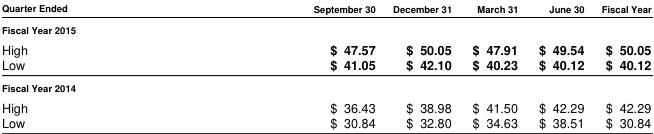table: (1, 0, 650, 130)
table column: (189, 0, 383, 130), (1, 0, 189, 130), (383, 0, 461, 130), (461, 0, 527, 130), (527, 0, 592, 130), (592, 0, 650, 130)
table column header: (1, 0, 650, 18)
table projected row header: (1, 18, 650, 38), (1, 76, 650, 96)
table row: (1, 18, 650, 38), (1, 56, 650, 76), (1, 76, 650, 96), (1, 0, 650, 18), (1, 38, 650, 56), (1, 96, 650, 114), (1, 114, 650, 130)
